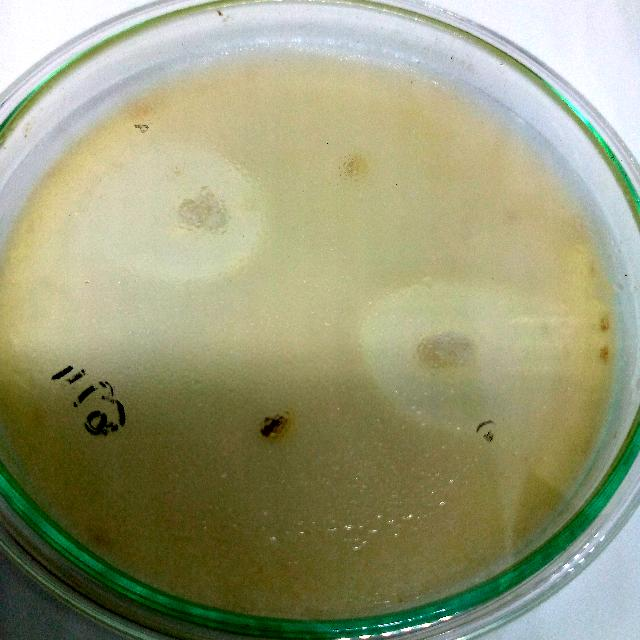colony: (411, 322, 482, 382), (172, 184, 234, 242), (251, 404, 293, 448), (336, 148, 374, 188)
